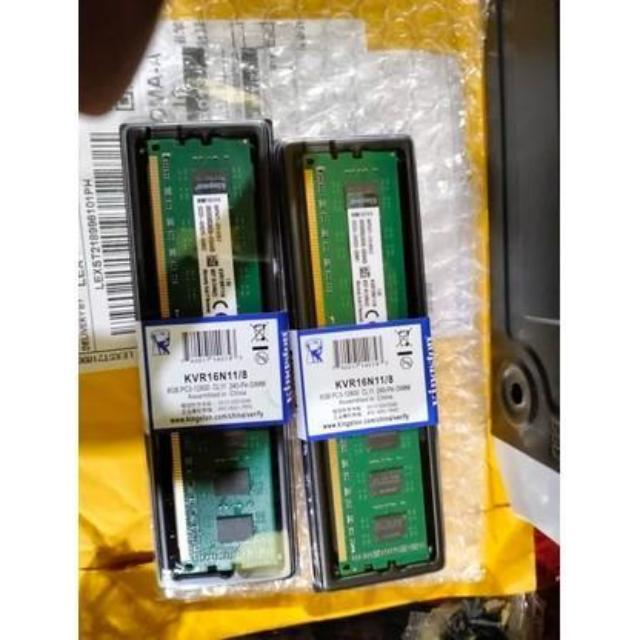RAM: (142, 129, 290, 577), (300, 150, 440, 575)
